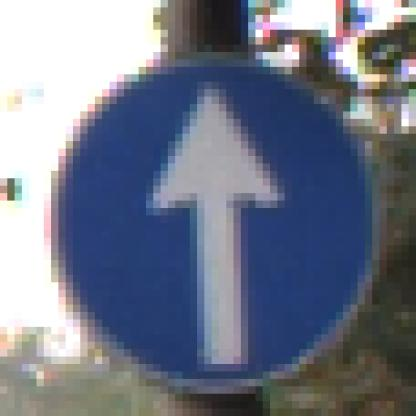AheadOnly: (45, 45, 373, 380)
